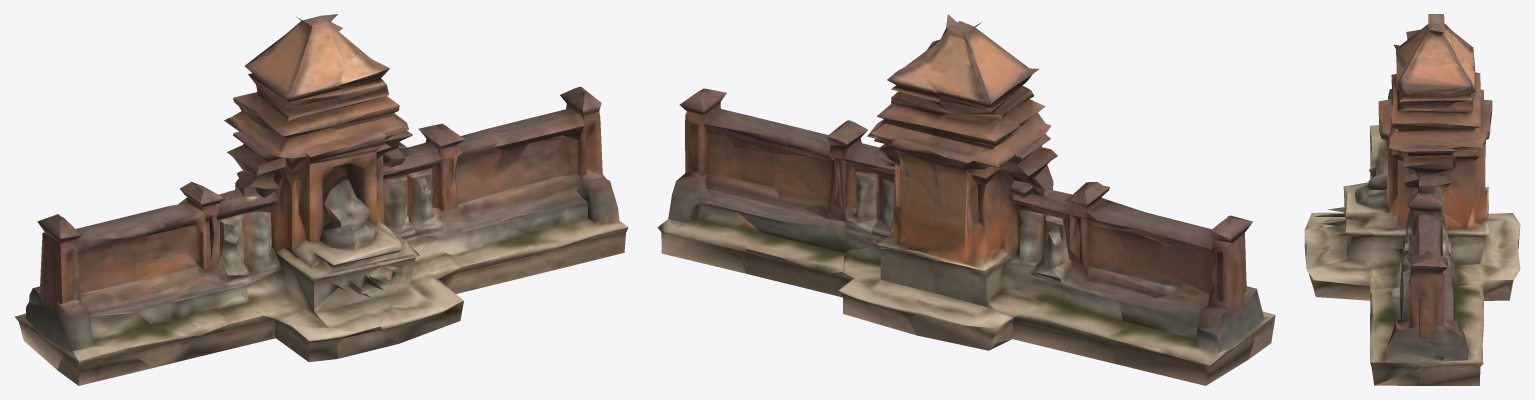
File: panggung_bhagawan_lod2.glb
3 views of the same model, side by side, from view 1: azimuth 30°, elevation 25°; view 2: azimuth 150°, elevation 25°; view 3: azimuth 270°, elevation 25° (orthographic). The views are drawn at different scales.
Visible parts, largest first — view 1: tripo_node_e00ba800-e203-4fc8-a337-a91e5d9b9f17; view 2: tripo_node_e00ba800-e203-4fc8-a337-a91e5d9b9f17; view 3: tripo_node_e00ba800-e203-4fc8-a337-a91e5d9b9f17.
Part boxes in pixels (bbox=[...]): tripo_node_e00ba800-e203-4fc8-a337-a91e5d9b9f17: bbox=[15, 14, 628, 385]; tripo_node_e00ba800-e203-4fc8-a337-a91e5d9b9f17: bbox=[657, 14, 1275, 385]; tripo_node_e00ba800-e203-4fc8-a337-a91e5d9b9f17: bbox=[1304, 14, 1520, 385].
Bounding box in the file's own units: 0.9996 × 0.4862 × 0.385.
Materials: 1 (1 with a texture image).
